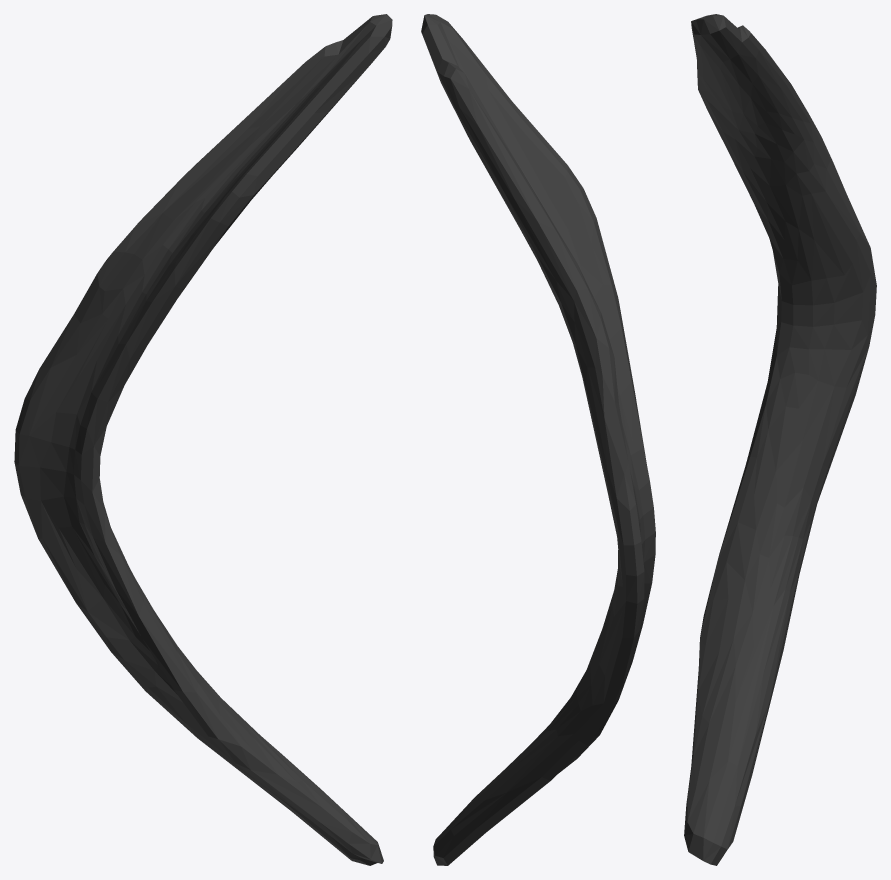
Rendered from Pelvis_ischiatic_arch.glb.
3 renders of one model, left to right at view 1: azimuth 30°, elevation 25°; view 2: azimuth 150°, elevation 25°; view 3: azimuth 270°, elevation 25°, orthographic.
Visible parts, largest first — view 1: Pelvis_ischiatic_arch; view 2: Pelvis_ischiatic_arch; view 3: Pelvis_ischiatic_arch.
Boxes of the visible parts, x1,y1,x2,y2 form: Pelvis_ischiatic_arch: [14, 14, 392, 865]; Pelvis_ischiatic_arch: [421, 14, 655, 865]; Pelvis_ischiatic_arch: [684, 14, 876, 865].
Size of the model in its own units: 0.8741 by 2.4 by 0.4893.
1 material, 1 textured.
